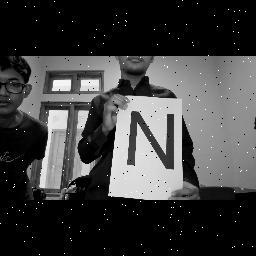n: (116, 103, 184, 173)
